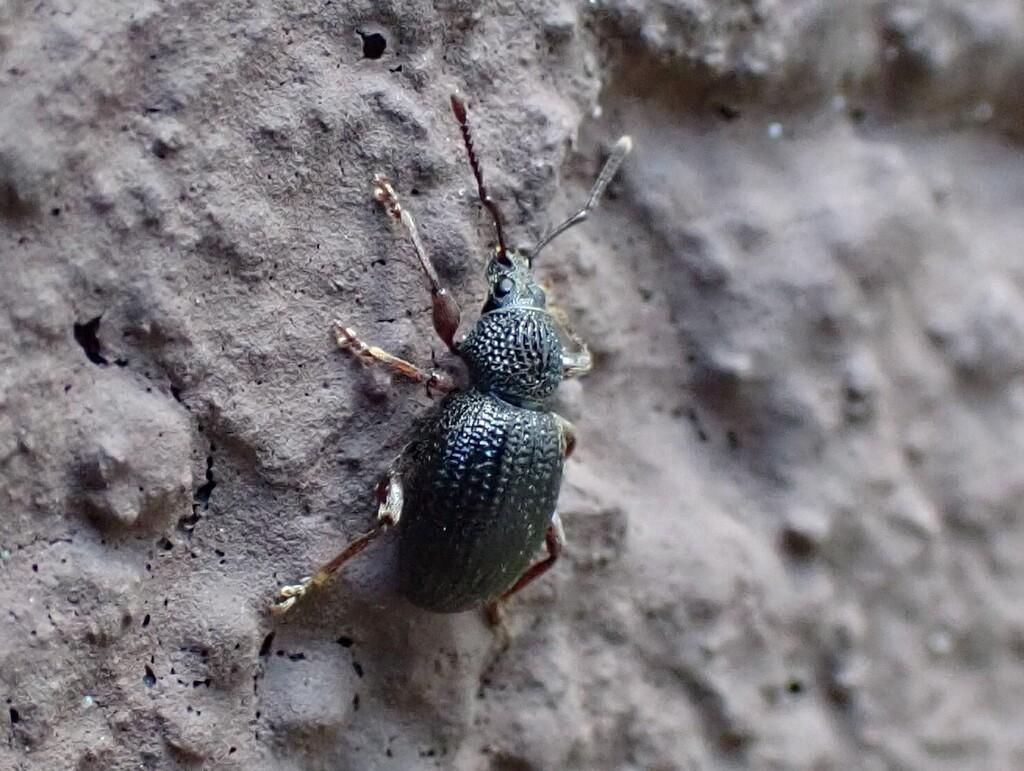weevils: (217, 57, 721, 722)
